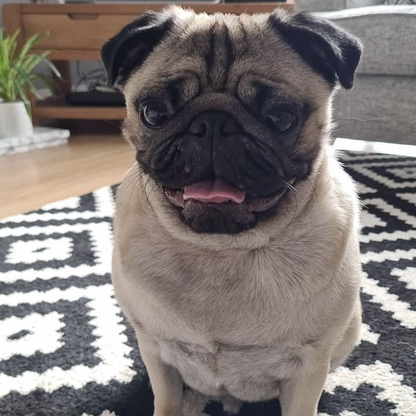Pug: (94, 4, 369, 416)
